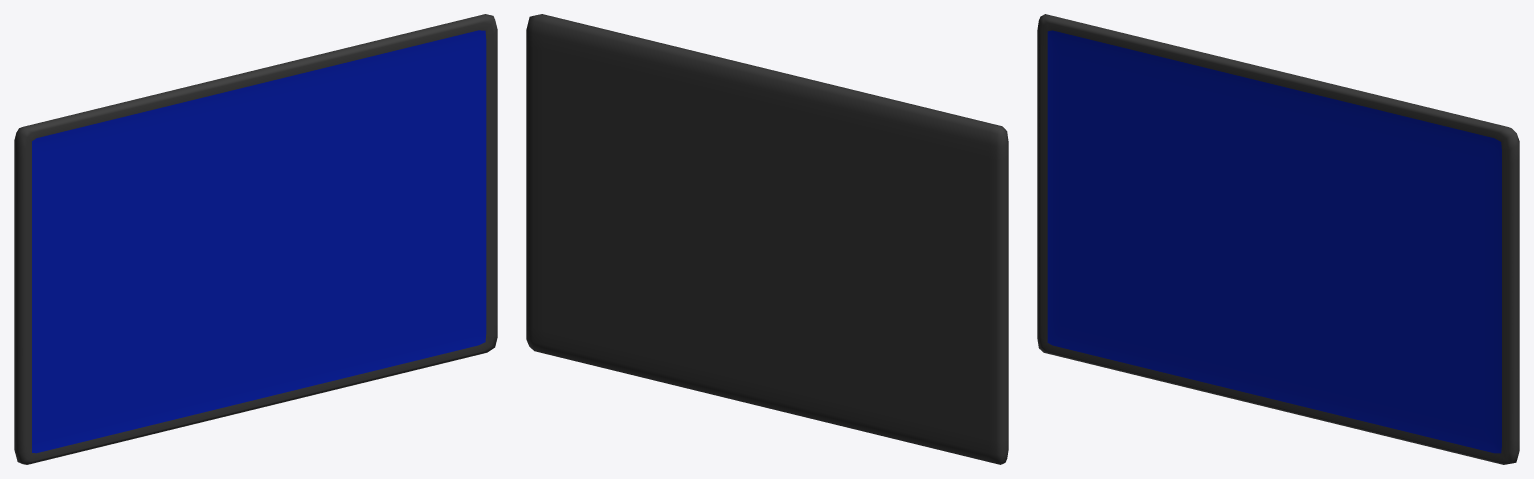
3 views of the same model, side by side, from view 1: azimuth 30°, elevation 25°; view 2: azimuth 150°, elevation 25°; view 3: azimuth 330°, elevation 25° (orthographic).
Visible parts, largest first — view 1: Tv_High; view 2: Tv_High; view 3: Tv_High.
Part boxes in pixels (x1,y1,x2,y2): Tv_High: [14, 14, 497, 464]; Tv_High: [526, 14, 1008, 464]; Tv_High: [1037, 14, 1519, 464].
Bounding box in the file's own units: 212 × 142 × 6.43.
